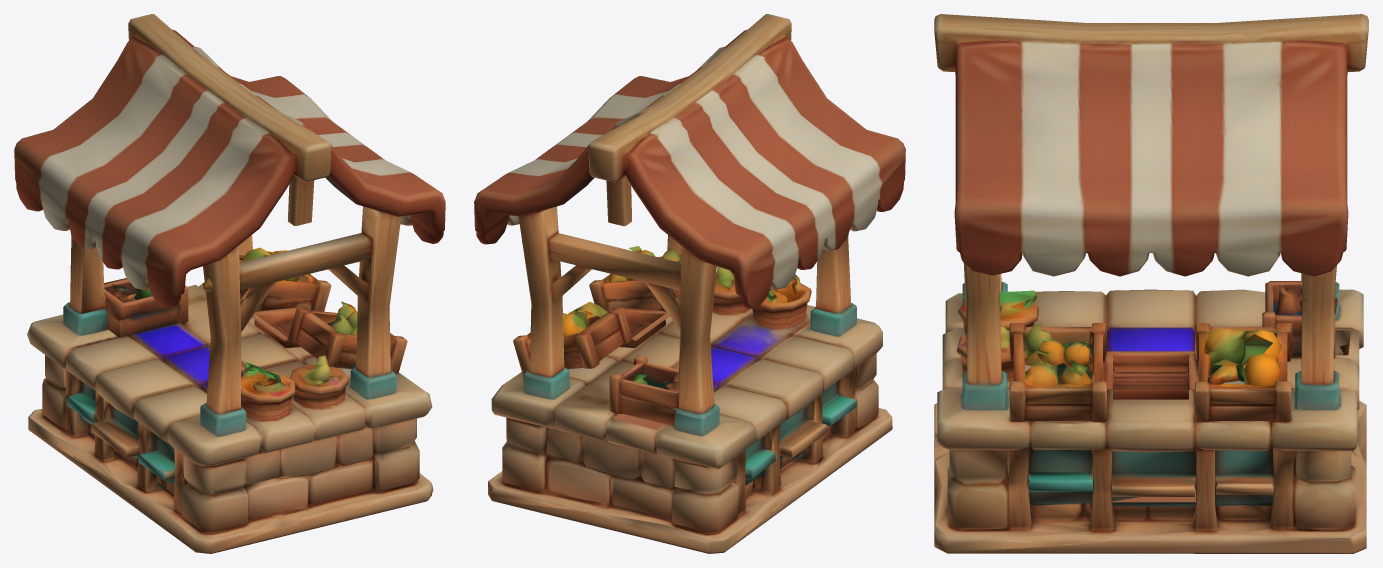
File: model_url.glb
3 views of the same model, side by side, from view 1: azimuth 30°, elevation 25°; view 2: azimuth 150°, elevation 25°; view 3: azimuth 270°, elevation 25° (orthographic). The views are drawn at different scales.
Parts seen in each view (by area): view 1: tripo_node_6ab7688f-1bb7-49bb-af97-1431a80f119a; view 2: tripo_node_6ab7688f-1bb7-49bb-af97-1431a80f119a; view 3: tripo_node_6ab7688f-1bb7-49bb-af97-1431a80f119a.
Boxes of the visible parts, bbox=[...] form: tripo_node_6ab7688f-1bb7-49bb-af97-1431a80f119a: bbox=[14, 14, 445, 553]; tripo_node_6ab7688f-1bb7-49bb-af97-1431a80f119a: bbox=[474, 14, 905, 553]; tripo_node_6ab7688f-1bb7-49bb-af97-1431a80f119a: bbox=[934, 14, 1368, 553].
Size of the model in its own units: 0.7573 by 1 by 0.8474.
Materials: 1 (1 with a texture image).
